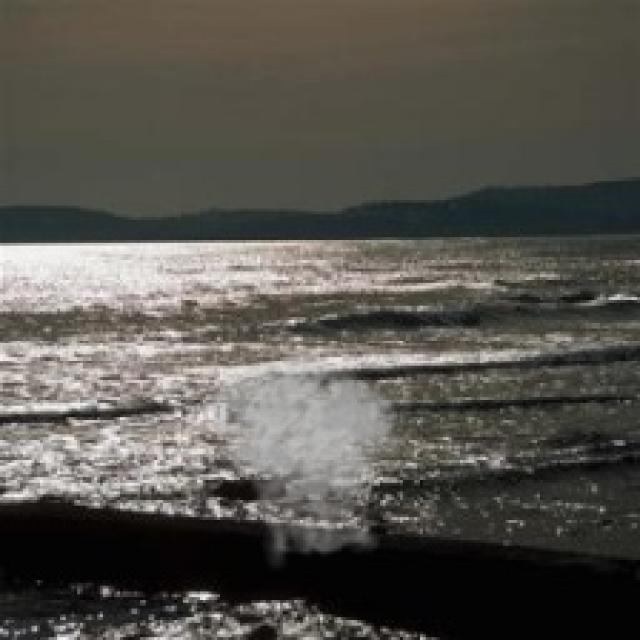smoke: (200, 352, 417, 572)
